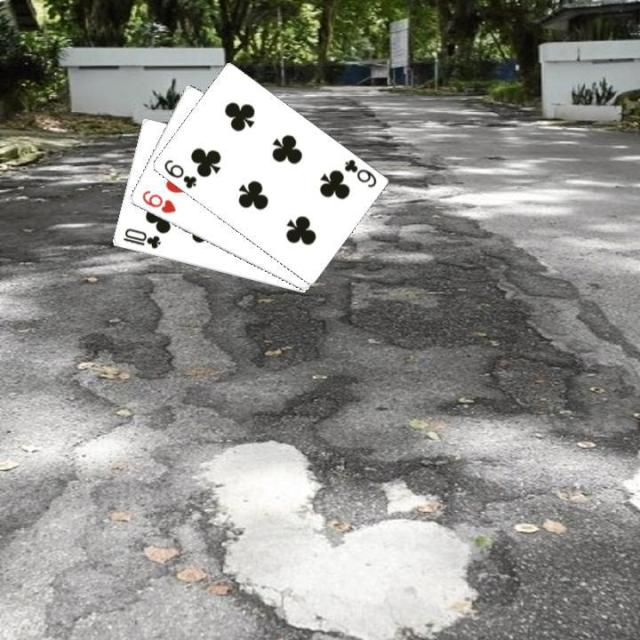10C: (119, 225, 163, 251)
6C: (159, 156, 198, 190), (340, 156, 378, 190)
6H: (138, 187, 178, 215)
